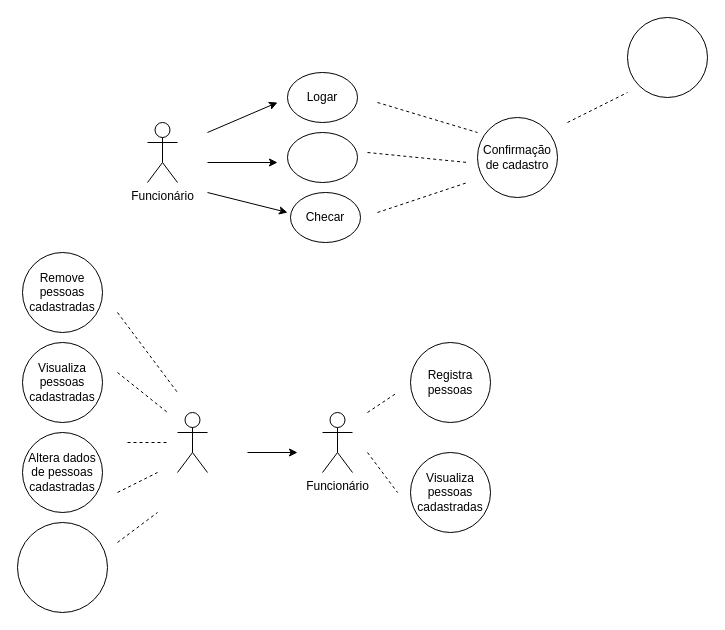
This 725x630 diagram has some shape labels left out. Each missing label, with the centre of its shape:
"Administrador" belongs at (192,442).
"Confirmação inválida" belongs at (667,57).
"Permissão para conceder acesso administrativo" belongs at (62,567).
"Registrar pessoas" belongs at (322,157).
